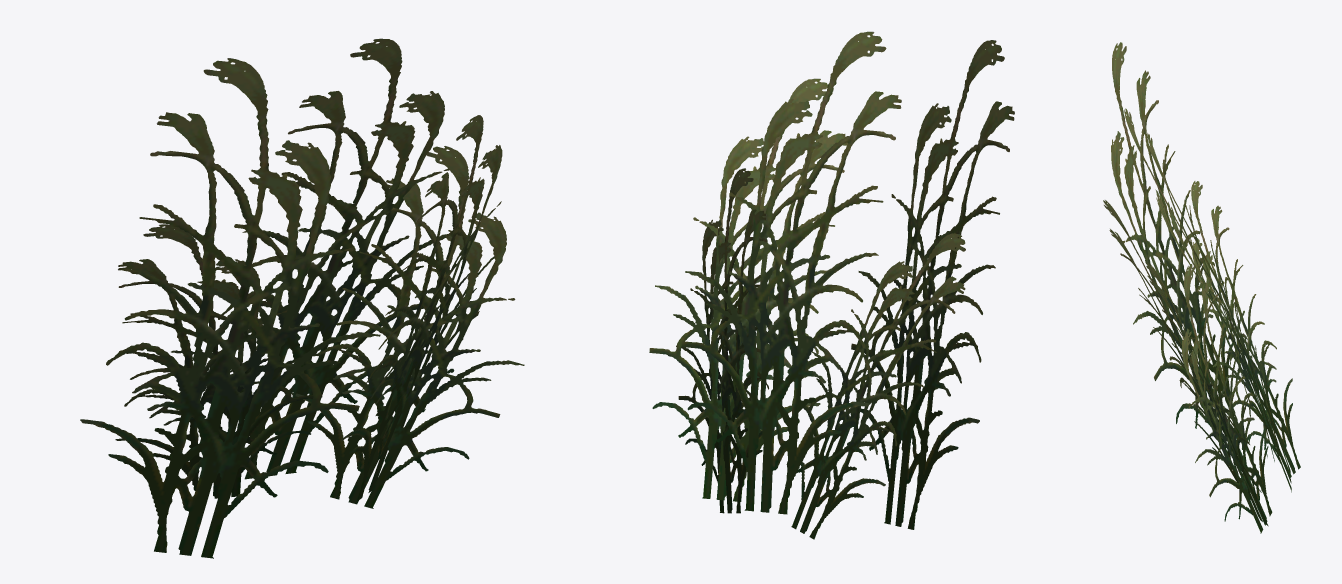
3 views of the same model, side by side, from view 1: azimuth 30°, elevation 25°; view 2: azimuth 150°, elevation 25°; view 3: azimuth 270°, elevation 25° (orthographic). The views are drawn at different scales.
Parts seen in each view (by area): view 1: pasted__Combined_Mesh_root_scene__Mesh_polySurface4495; view 2: pasted__Combined_Mesh_root_scene__Mesh_polySurface4495; view 3: pasted__Combined_Mesh_root_scene__Mesh_polySurface4495.
Part boxes in pixels (bbox=[...]): pasted__Combined_Mesh_root_scene__Mesh_polySurface4495: bbox=[80, 38, 524, 558]; pasted__Combined_Mesh_root_scene__Mesh_polySurface4495: bbox=[649, 31, 1014, 539]; pasted__Combined_Mesh_root_scene__Mesh_polySurface4495: bbox=[1103, 42, 1300, 533].
Size of the model in its own units: 17.63 by 21.03 by 11.8.
